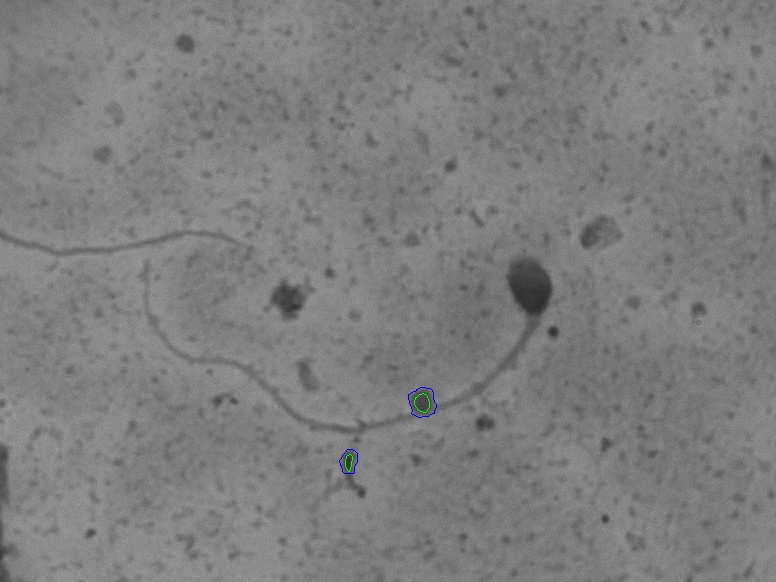Abnormal: (105, 192, 563, 443)
